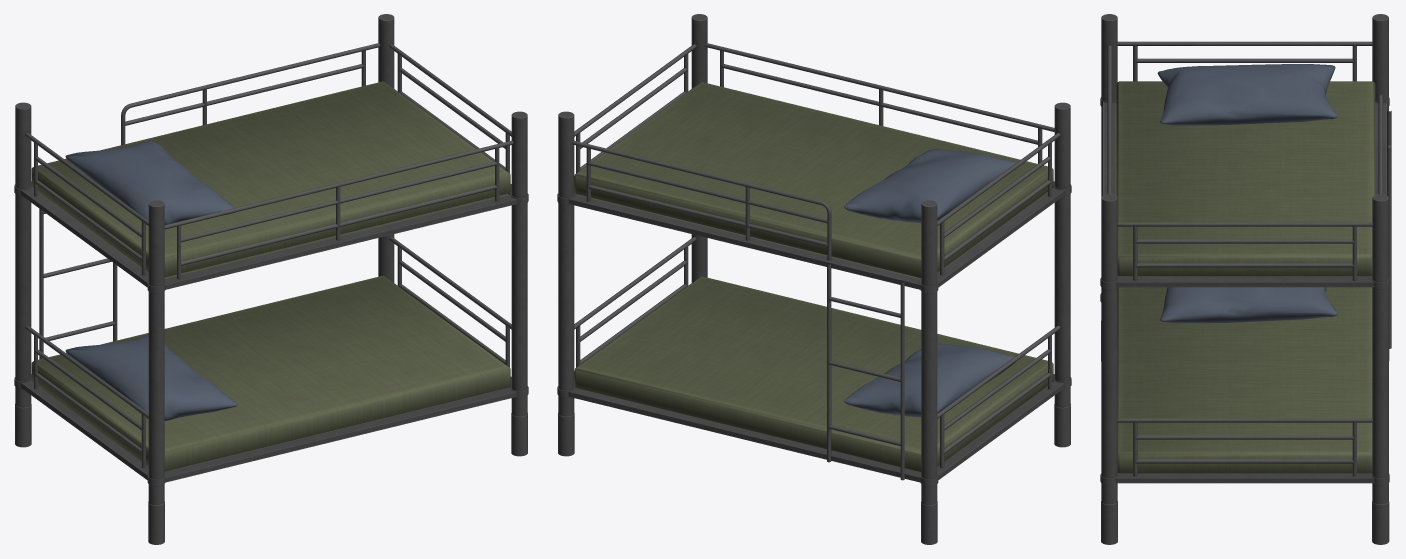
File: bunkbed.glb
3 renders of one model, left to right at view 1: azimuth 30°, elevation 25°; view 2: azimuth 150°, elevation 25°; view 3: azimuth 270°, elevation 25°, orthographic.
Parts seen in each view (by area): view 1: Bunk_Bed_1_Bunk_Bed_1_0, Bunk_Bed_2_Bunk_Bed_2_0, Bunk_Bed_2.1_Bunk_Bed_2_0; view 2: Bunk_Bed_1_Bunk_Bed_1_0, Bunk_Bed_2_Bunk_Bed_2_0, Bunk_Bed_2.1_Bunk_Bed_2_0; view 3: Bunk_Bed_2.1_Bunk_Bed_2_0, Bunk_Bed_2_Bunk_Bed_2_0, Bunk_Bed_1_Bunk_Bed_1_0.
Boxes of the visible parts, x1,y1,x2,y2 form: Bunk_Bed_1_Bunk_Bed_1_0: (14, 14, 528, 544); Bunk_Bed_2_Bunk_Bed_2_0: (31, 275, 510, 471); Bunk_Bed_2.1_Bunk_Bed_2_0: (31, 81, 510, 277); Bunk_Bed_1_Bunk_Bed_1_0: (557, 14, 1071, 544); Bunk_Bed_2_Bunk_Bed_2_0: (574, 276, 1053, 471); Bunk_Bed_2.1_Bunk_Bed_2_0: (574, 82, 1053, 277); Bunk_Bed_2.1_Bunk_Bed_2_0: (1116, 64, 1375, 276); Bunk_Bed_2_Bunk_Bed_2_0: (1117, 287, 1372, 473); Bunk_Bed_1_Bunk_Bed_1_0: (1100, 14, 1391, 544).
Bounding box in the file's own units: 2 × 1.71 × 1.31.
2 materials, 2 textured.
